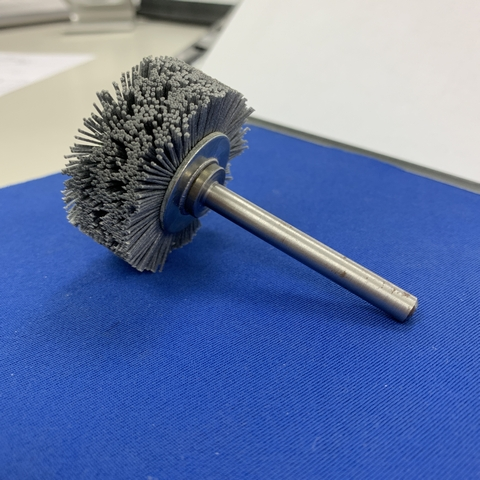Wheel Brush: (54, 53, 424, 309), (96, 61, 414, 276), (31, 68, 362, 267)
